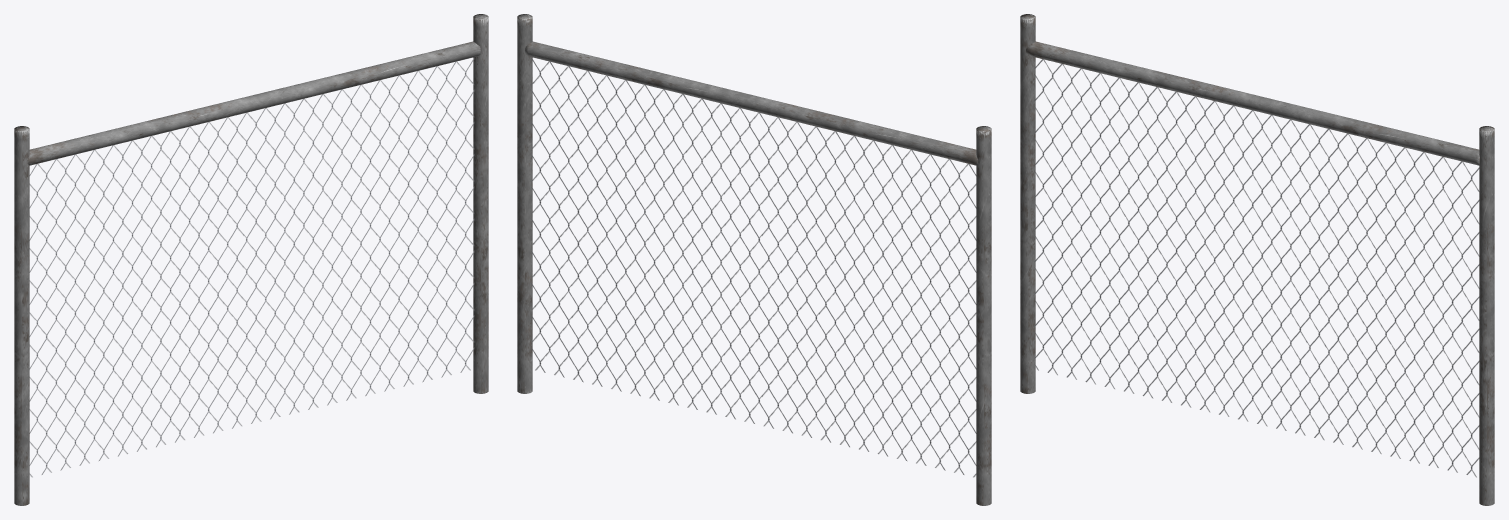
3 renders of one model, left to right at view 1: azimuth 30°, elevation 25°; view 2: azimuth 150°, elevation 25°; view 3: azimuth 330°, elevation 25°, orthographic.
Parts seen in each view (by area): view 1: chainlink_fence_low; view 2: chainlink_fence_low; view 3: chainlink_fence_low.
Boxes of the visible parts, x1,y1,x2,y2 form: chainlink_fence_low: (14,14,488,505); chainlink_fence_low: (517,14,991,505); chainlink_fence_low: (1020,14,1494,505).
Bounding box in the file's own units: 168 × 127 × 4.83.
2 materials, 2 textured.
